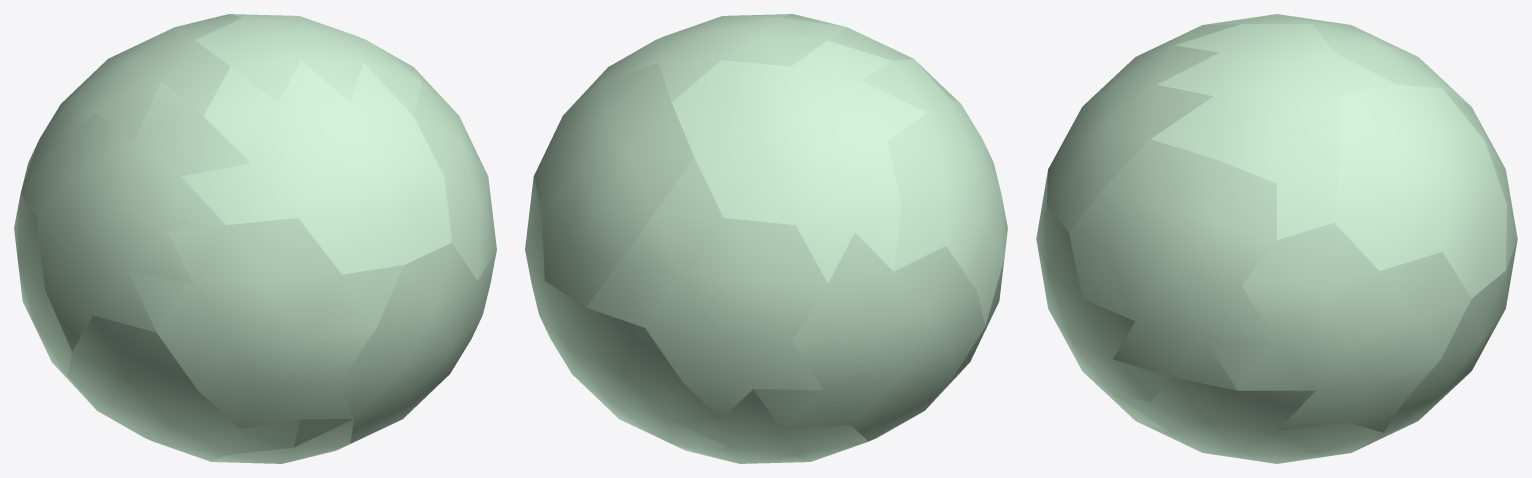
Rendered from mochi-broken.glb.
3 renders of one model, left to right at view 1: azimuth 30°, elevation 25°; view 2: azimuth 150°, elevation 25°; view 3: azimuth 270°, elevation 25°, orthographic.
Visible parts, largest first — view 1: fragment_07, fragment_02, fragment_04, fragment_10, fragment_12, fragment_01, fragment_00, fragment_05, fragment_09, fragment_15; view 2: fragment_01, fragment_06, fragment_09, fragment_03, fragment_04, fragment_11, fragment_00, fragment_14, fragment_08, fragment_02, fragment_12; view 3: fragment_05, fragment_08, fragment_03, fragment_00, fragment_02, fragment_13, fragment_10, fragment_11, fragment_01, fragment_06.
Boxes of the visible parts, x1,y1,x2,y2 form: fragment_07: [128, 218, 403, 428]; fragment_02: [181, 60, 451, 274]; fragment_04: [21, 81, 250, 351]; fragment_10: [293, 243, 496, 447]; fragment_12: [67, 315, 300, 461]; fragment_01: [21, 14, 242, 191]; fragment_00: [195, 14, 421, 115]; fragment_05: [413, 67, 496, 310]; fragment_09: [14, 141, 94, 407]; fragment_15: [212, 419, 383, 463]; fragment_01: [672, 40, 926, 283]; fragment_06: [586, 157, 827, 418]; fragment_09: [753, 232, 985, 441]; fragment_03: [533, 62, 693, 307]; fragment_04: [861, 59, 1007, 324]; fragment_11: [539, 281, 727, 447]; fragment_00: [563, 14, 846, 115]; fragment_14: [668, 389, 915, 463]; fragment_08: [525, 177, 544, 314]; fragment_02: [779, 14, 960, 103]; fragment_12: [927, 240, 1006, 407]; fragment_05: [1069, 139, 1276, 390]; fragment_08: [1203, 222, 1471, 432]; fragment_03: [1334, 85, 1506, 298]; fragment_00: [1151, 24, 1396, 239]; fragment_02: [1047, 24, 1240, 232]; fragment_13: [1113, 377, 1382, 463]; fragment_10: [1036, 205, 1169, 432]; fragment_11: [1352, 240, 1517, 452]; fragment_01: [1204, 14, 1470, 105]; fragment_06: [1443, 89, 1517, 269].
Bounding box in the file's own units: 2 × 1.84 × 2.
